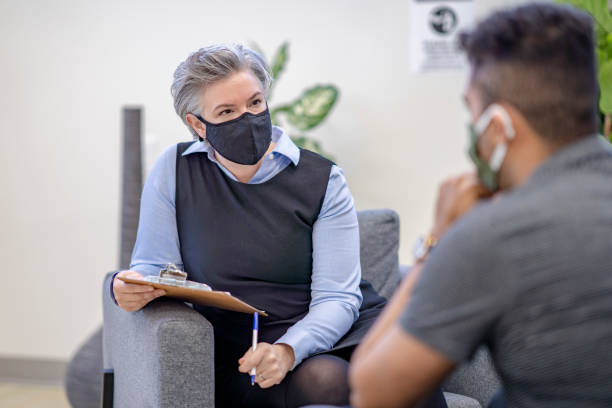with mask: (452, 7, 602, 189), (184, 60, 283, 168)
